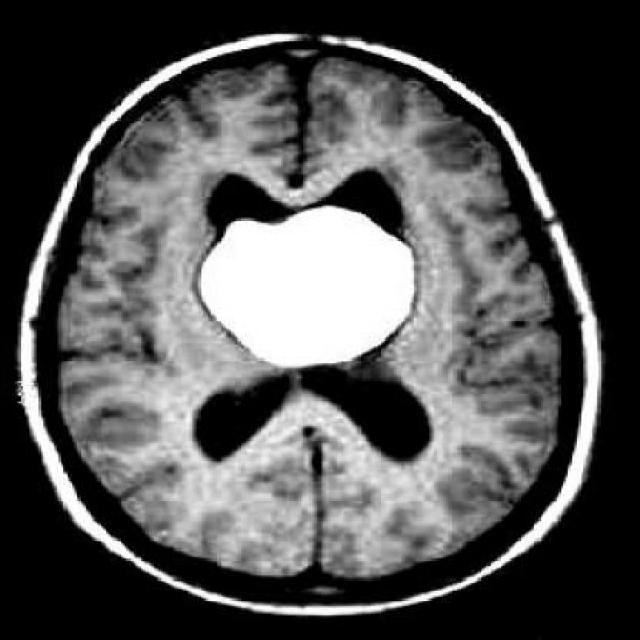Brain-Tumor: (179, 202, 446, 384)
